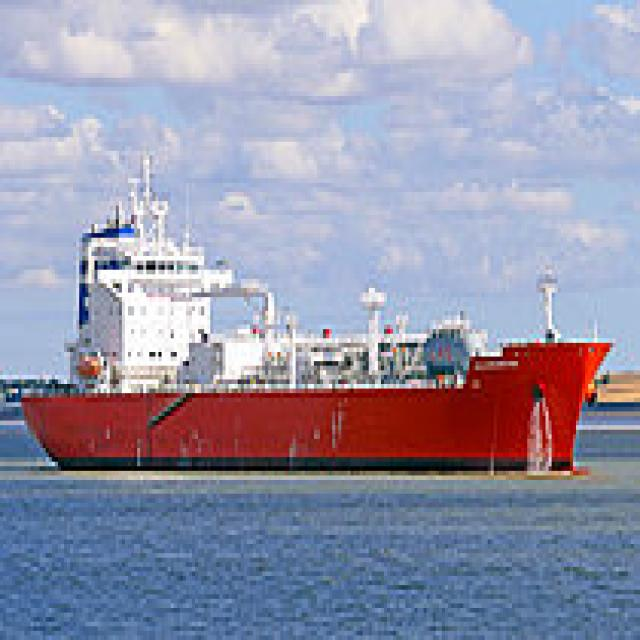Tanker: (15, 147, 613, 476)
